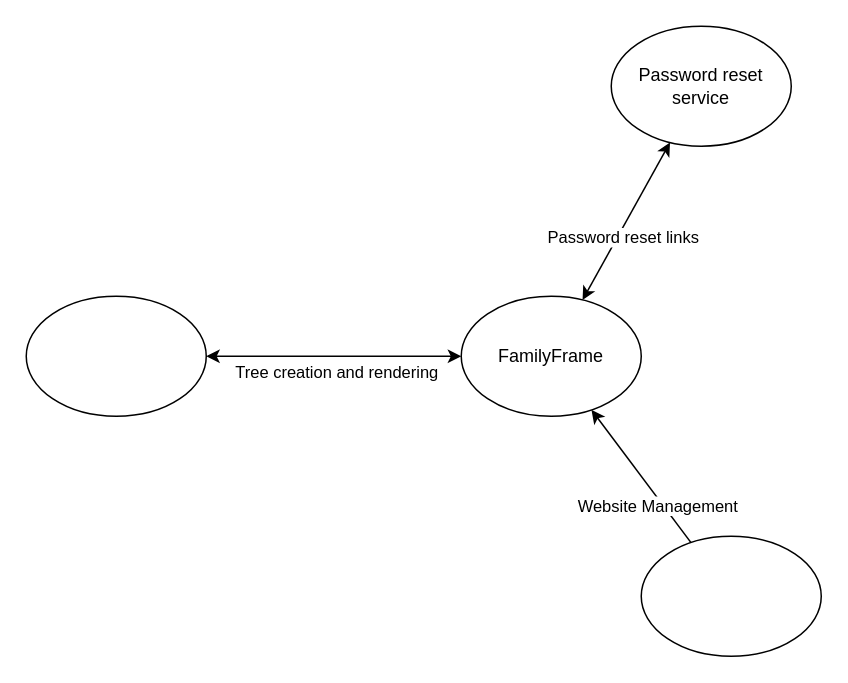
The diagram is 848 pixels wide and 683 high, and some of its shapes have lost their labels. The centre of each missing label's shape, as x and y in pixels:
Admin: pixel 730 595
User: pixel 115 355
